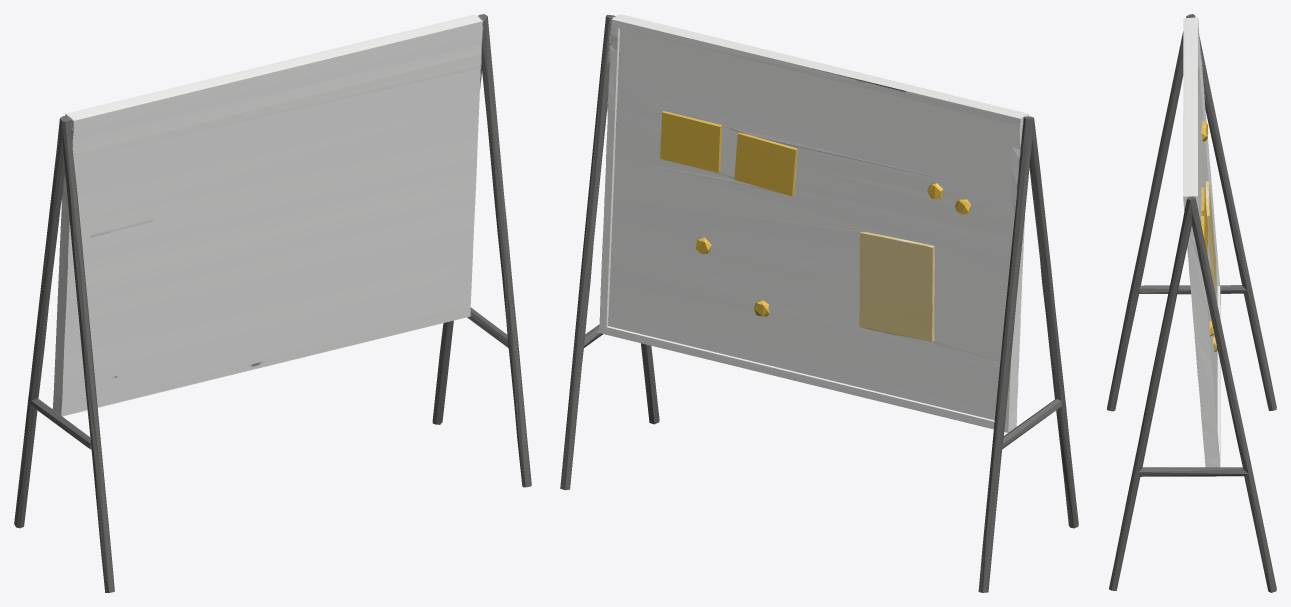
The model's file is whiteboard.glb.
The picture shows the model from 3 angles, left to right: view 1: azimuth 30°, elevation 25°; view 2: azimuth 150°, elevation 25°; view 3: azimuth 270°, elevation 25°; orthographic projection. The views are drawn at different scales.
Parts seen in each view (by area): view 1: 282295_23_05_24_18_15_33_0; view 2: 282295_23_05_24_18_15_33_0; view 3: 282295_23_05_24_18_15_33_0.
Part boxes in pixels (x1,y1,x2,y2): 282295_23_05_24_18_15_33_0: [14, 14, 531, 592]; 282295_23_05_24_18_15_33_0: [560, 14, 1078, 592]; 282295_23_05_24_18_15_33_0: [1107, 14, 1276, 592].
Size of the model in its own units: 5.84 by 5.78 by 2.25.
Materials: 1 (1 with a texture image).
